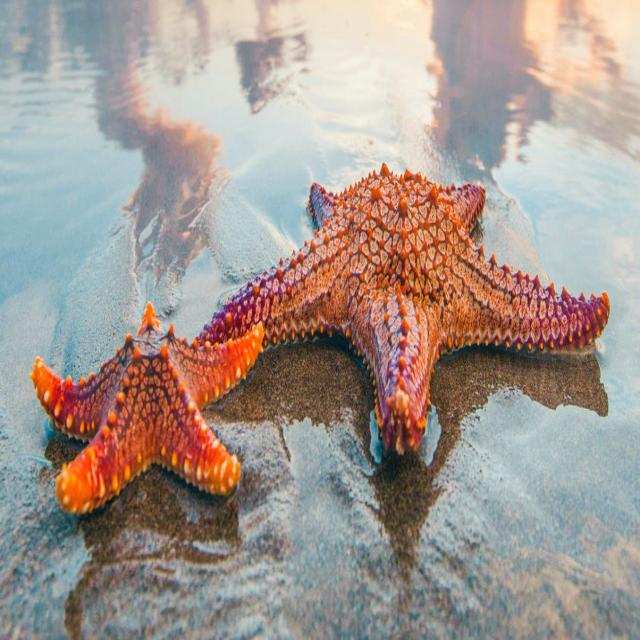starfish: (197, 169, 609, 453), (31, 306, 262, 513)
